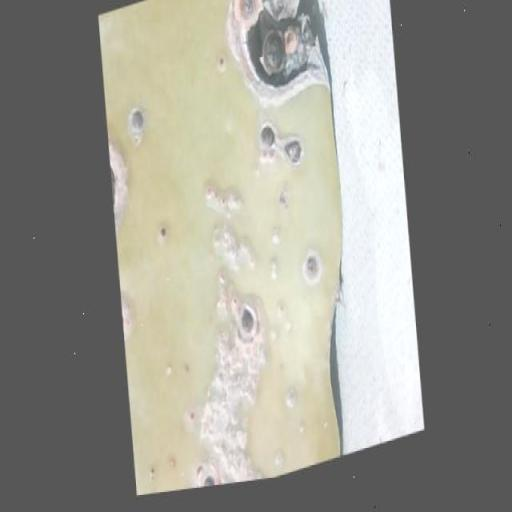stemcanker: (280, 380, 301, 416), (265, 252, 285, 284), (269, 222, 286, 250), (272, 443, 286, 471), (214, 50, 228, 75), (184, 405, 198, 428), (182, 355, 194, 380), (156, 222, 170, 243), (166, 452, 180, 472), (146, 463, 158, 484), (317, 418, 331, 436), (164, 358, 173, 382), (275, 300, 288, 316), (297, 423, 306, 434)
